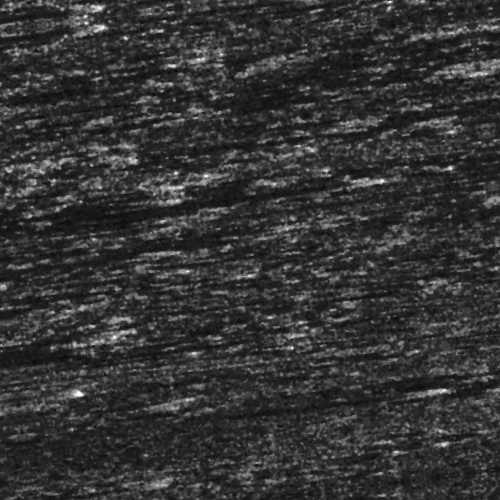object: (23, 0, 220, 14), (0, 358, 82, 375), (314, 187, 407, 200), (25, 184, 56, 199), (280, 222, 311, 235), (307, 3, 360, 8), (394, 409, 435, 414), (469, 210, 500, 213)
shadow: (0, 187, 360, 200), (73, 222, 296, 235), (0, 0, 121, 14), (212, 409, 414, 414), (182, 3, 334, 8), (0, 184, 41, 199), (0, 358, 29, 375), (415, 356, 500, 361), (414, 210, 484, 213)
